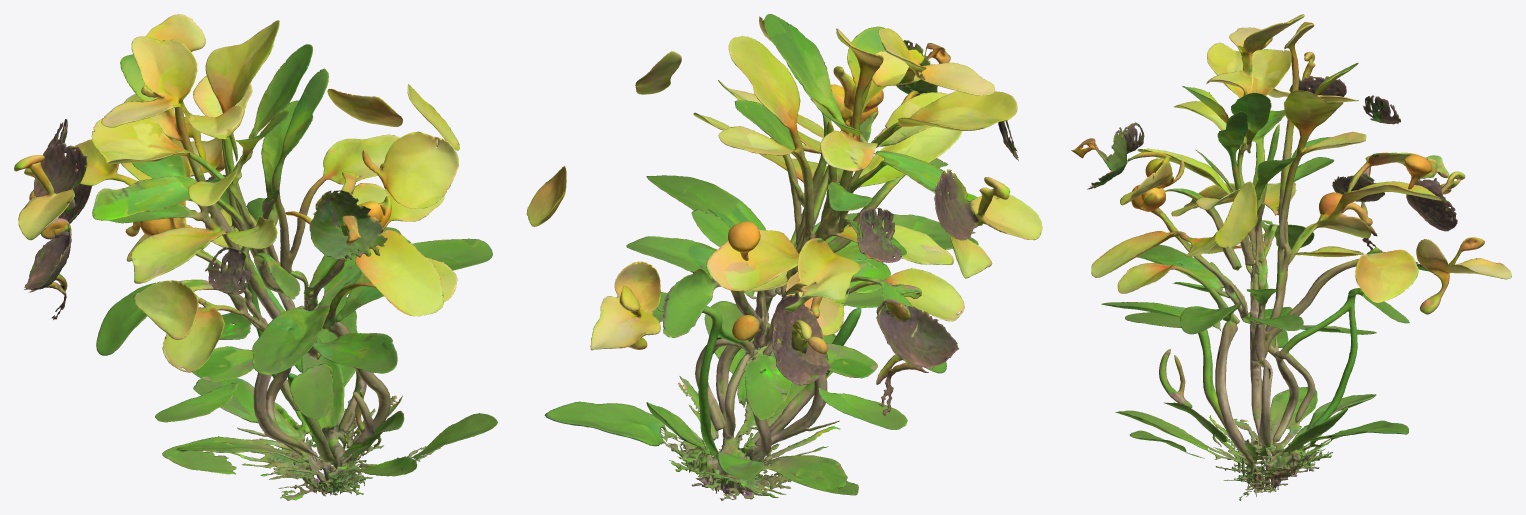
File: muta-plant3.glb
The picture shows the model from 3 angles, left to right: view 1: azimuth 30°, elevation 25°; view 2: azimuth 150°, elevation 25°; view 3: azimuth 270°, elevation 25°; orthographic projection. The views are drawn at different scales.
Size of the model in its own units: 1.44 by 1.57 by 1.52.
Materials: 1 (1 with a texture image).
